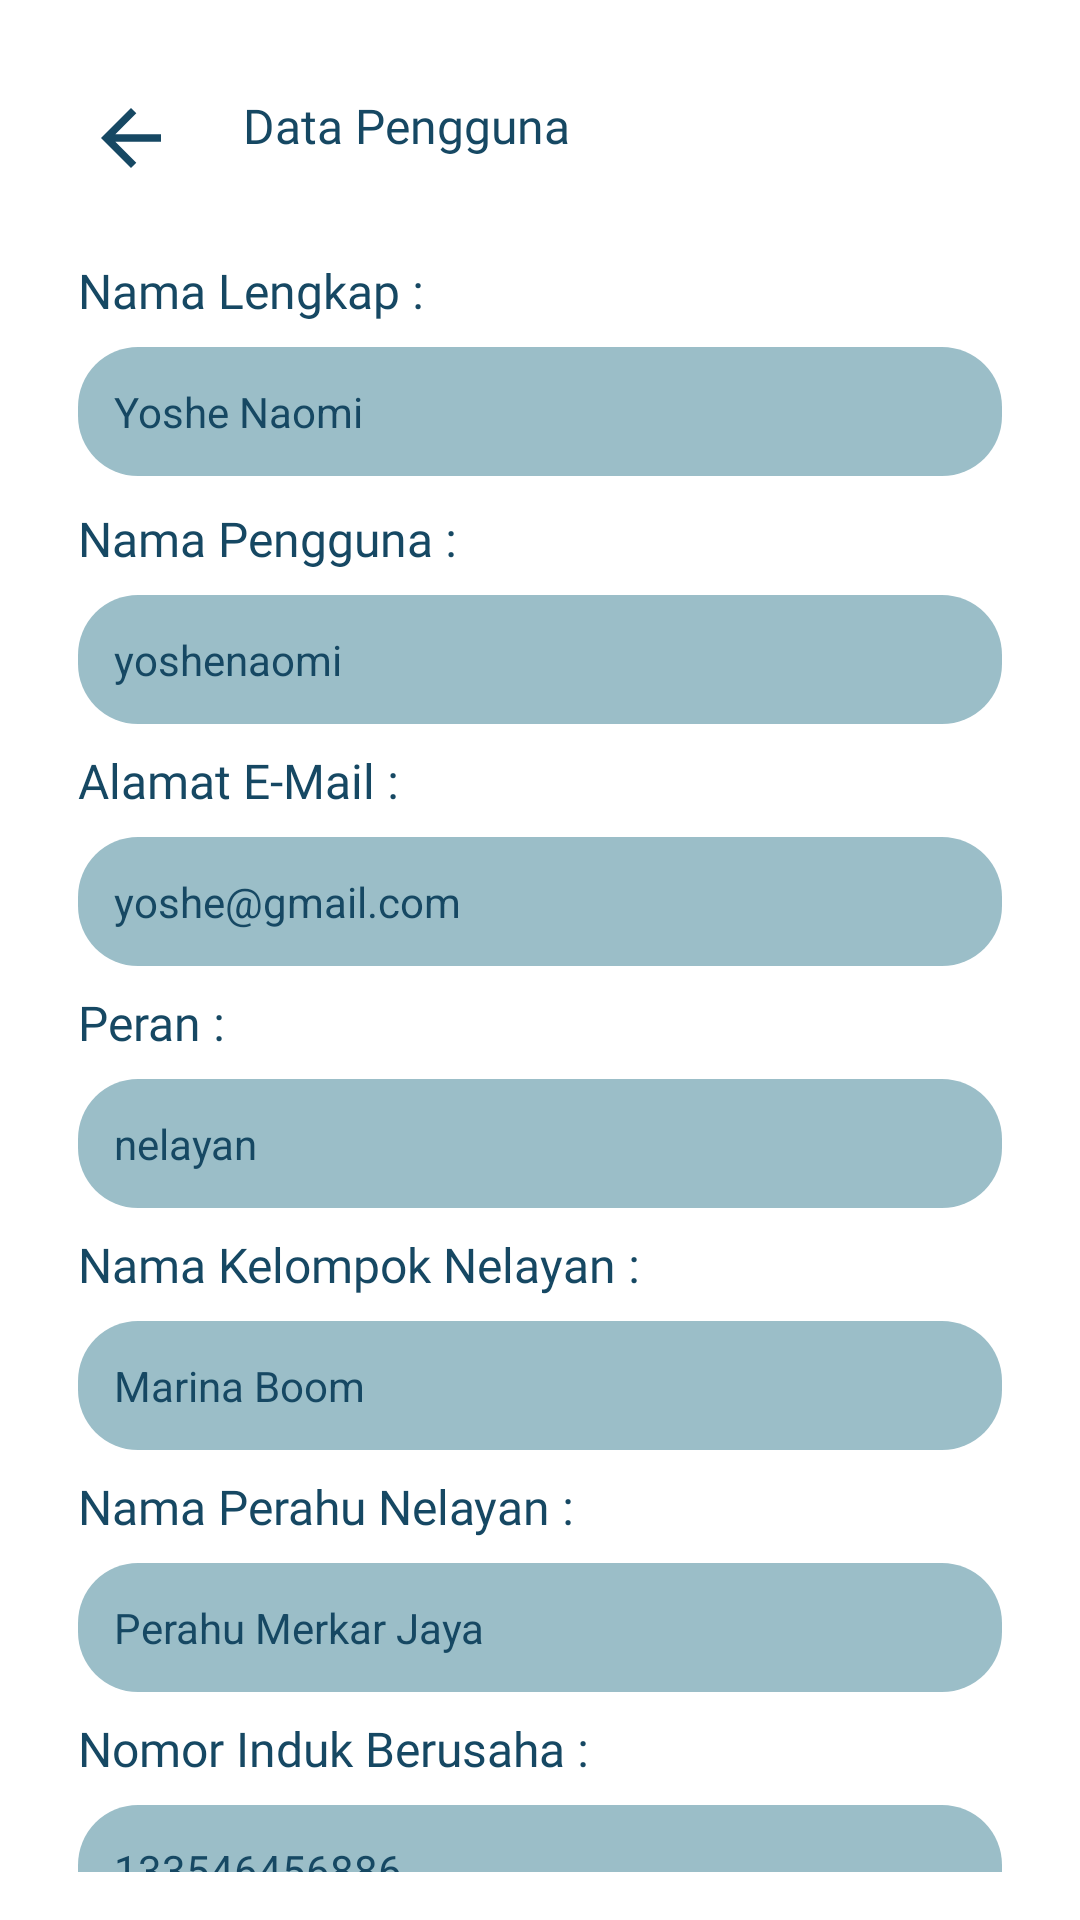

Point at icon controls on the screen. Image size 1080px×1920px, points as point (x, y).
Back Icon: point (131, 138)
